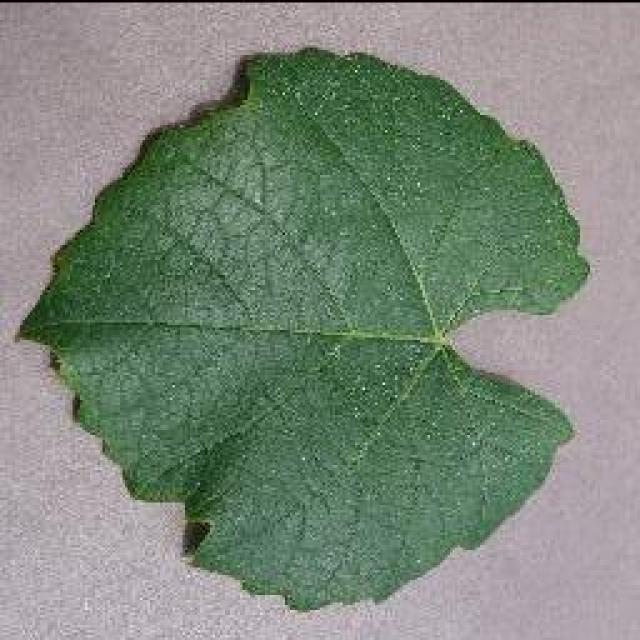Grape___healthy: (22, 50, 588, 608)
